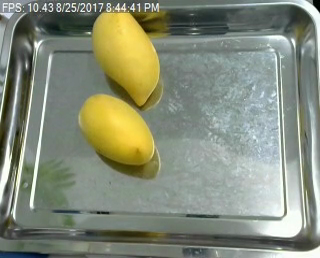Mango: (89, 7, 160, 107), (75, 93, 159, 172)
